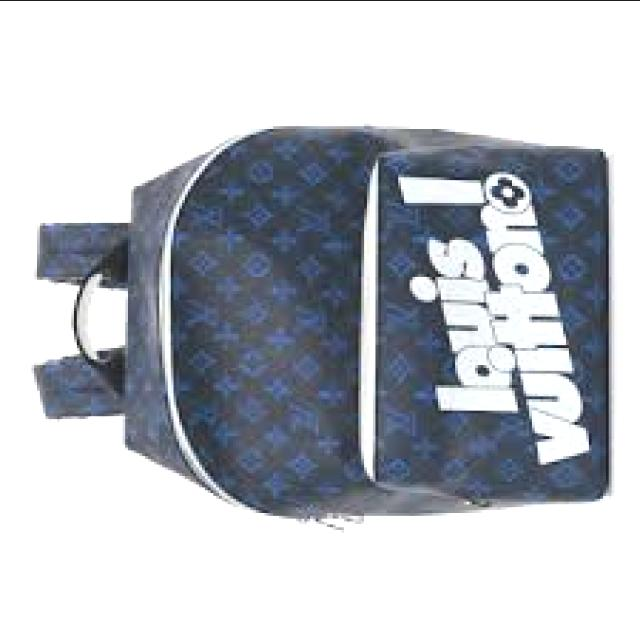backpack: (30, 126, 610, 533)
